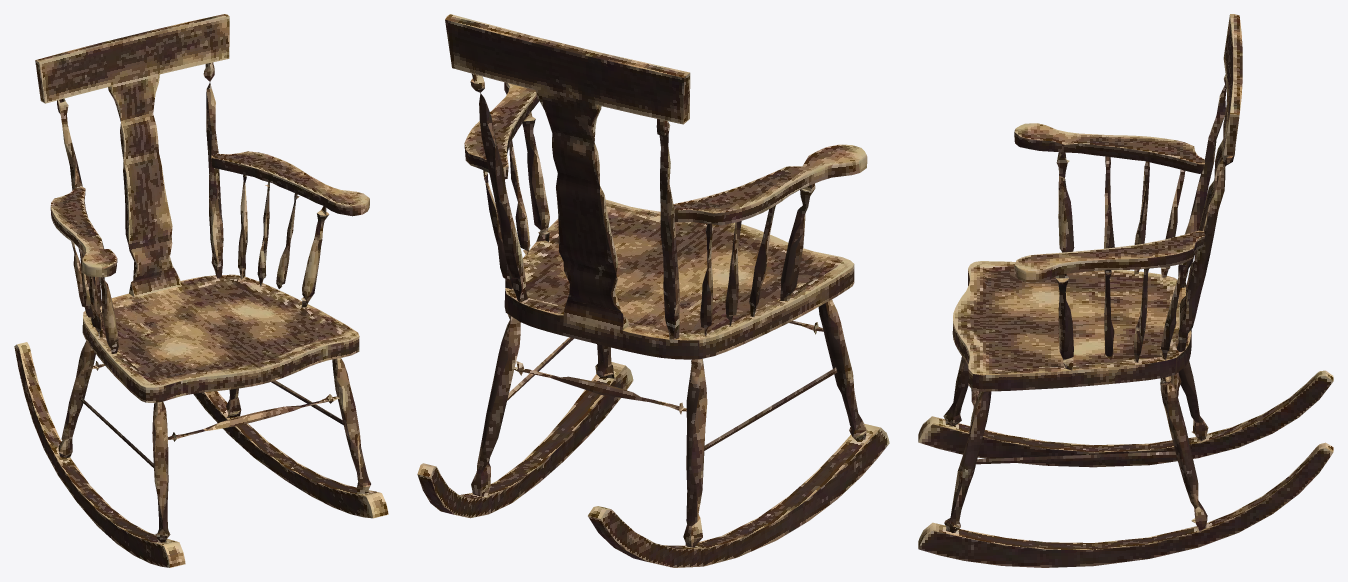
The model's file is rocking_chair.glb.
3 renders of one model, left to right at view 1: azimuth 30°, elevation 25°; view 2: azimuth 150°, elevation 25°; view 3: azimuth 270°, elevation 25°, orthographic. The views are drawn at different scales.
Parts seen in each view (by area): view 1: rocking_chair_src; view 2: rocking_chair_src; view 3: rocking_chair_src.
Part boxes in pixels (bbox=[...]): rocking_chair_src: bbox=[14, 14, 388, 567]; rocking_chair_src: bbox=[417, 14, 889, 567]; rocking_chair_src: bbox=[918, 14, 1333, 567].
Size of the model in its own units: 1.19 by 1.68 by 1.41.
1 material, 1 textured.
